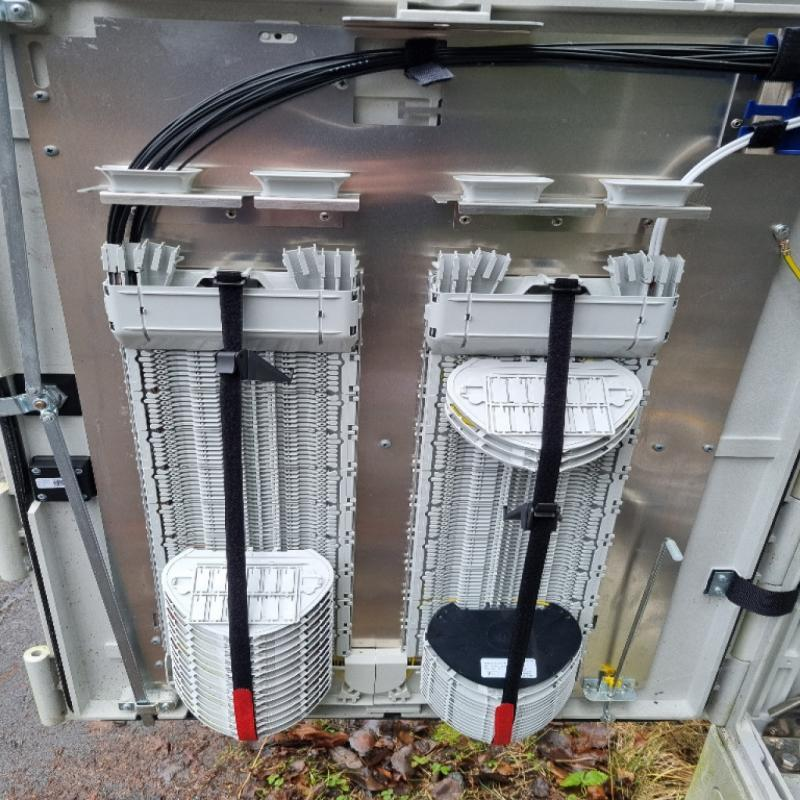NT-Gehause: (0, 2, 799, 800)
Spleiskassetten: (399, 159, 719, 756), (94, 156, 364, 751)
